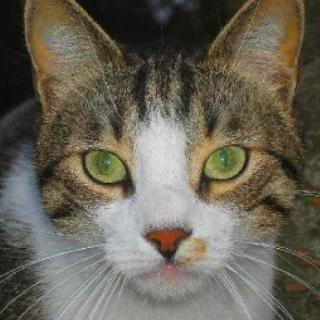cat: (20, 0, 303, 308)
nose: (134, 193, 200, 262)
